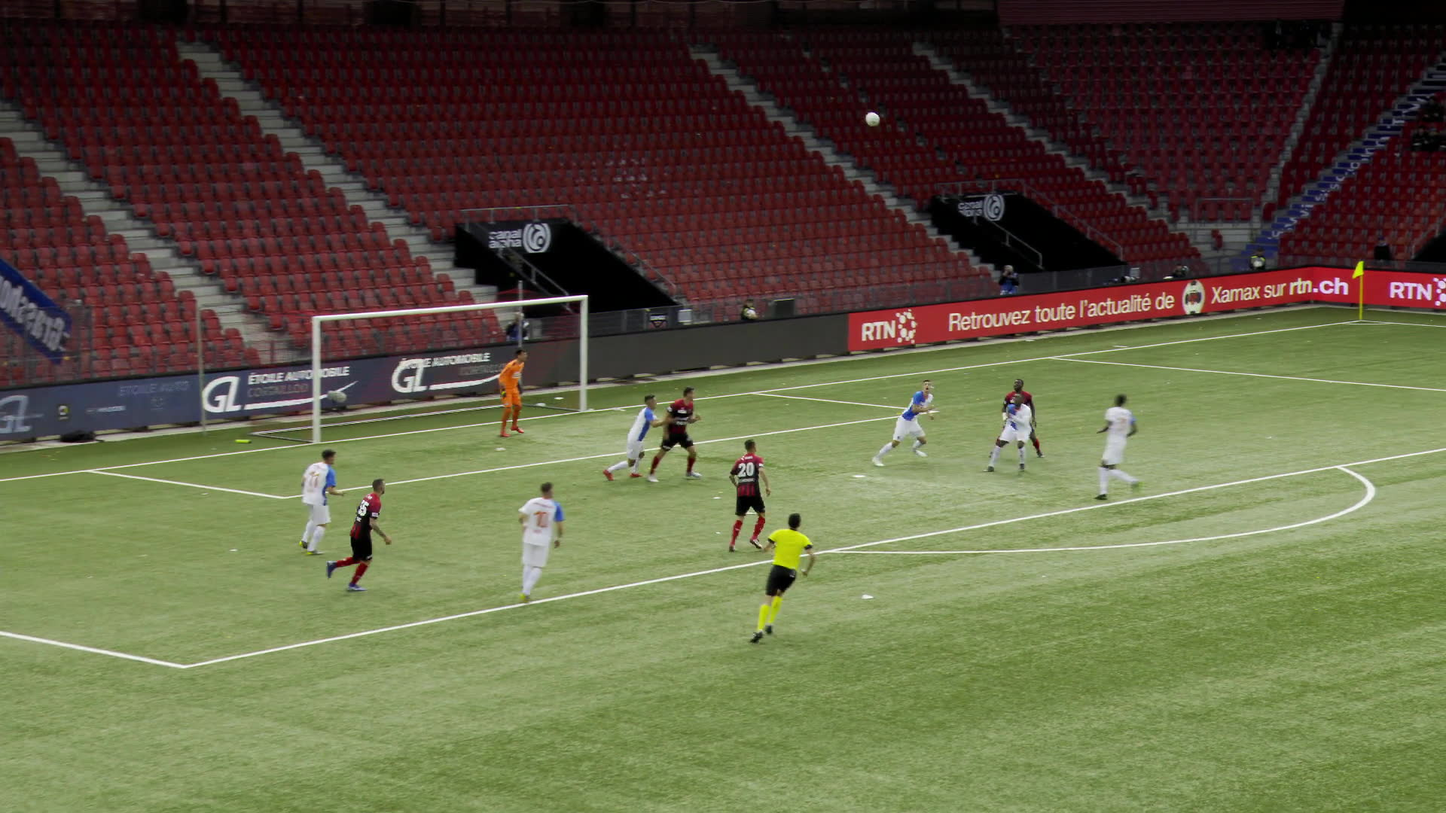ball: (865, 111, 879, 126)
player: (328, 476, 396, 589), (870, 377, 942, 464), (609, 393, 678, 482), (520, 479, 570, 601), (726, 437, 776, 552), (299, 447, 350, 554), (651, 386, 704, 483), (1100, 394, 1146, 501), (987, 391, 1041, 474), (997, 378, 1042, 458), (500, 349, 533, 437)
referee: (749, 512, 819, 643)
